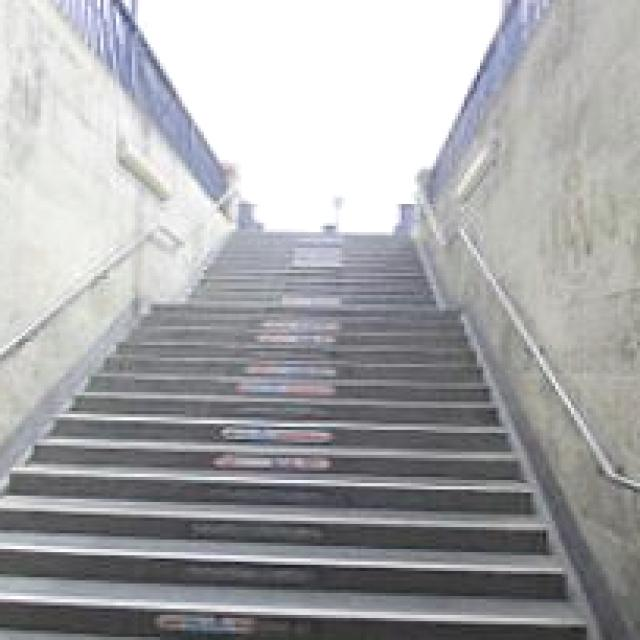upstair: (60, 336, 559, 640)
